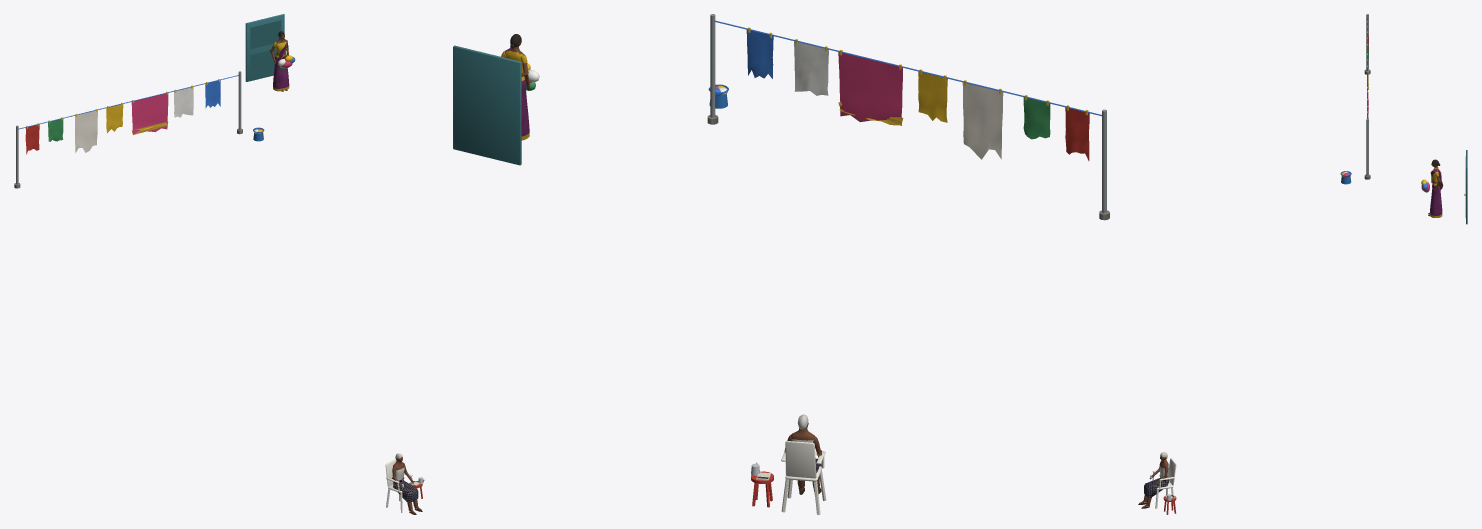
File: neighbours.glb
3 views of the same model, side by side, from view 1: azimuth 30°, elevation 25°; view 2: azimuth 150°, elevation 25°; view 3: azimuth 270°, elevation 25° (orthographic). The views are drawn at different scales.
Visible parts, largest first — view 1: roof_door__door_teal_dark_w40, wash_2, door_panel, wash_4, aunty__cloth_#7a2e6e, wash_1; view 2: door_panel, wash_2, wash_4, uncle_spot__plastic_monobloc, wash_1, wash_3, wash_0, Neighbours__gi_pipe, wash_6, wash_5, line; view 3: aunty__cloth_#7a2e6e, uncle_spot__plastic_monobloc.
Part boxes in pixels (x1,y1,x2,y2): roof_door__door_teal_dark_w40: [250, 20, 281, 76]; wash_2: [131, 93, 168, 134]; door_panel: [245, 14, 284, 81]; wash_4: [75, 110, 97, 152]; aunty__cloth_#7a2e6e: [273, 38, 289, 91]; wash_1: [174, 87, 193, 117]; door_panel: [453, 45, 521, 165]; wash_2: [838, 52, 902, 125]; wash_4: [962, 82, 1003, 159]; uncle_spot__plastic_monobloc: [781, 441, 826, 514]; wash_1: [794, 41, 828, 95]; wash_3: [918, 71, 947, 122]; wash_0: [746, 30, 773, 78]; Neighbours__gi_pipe: [710, 14, 1106, 213]; wash_6: [1065, 107, 1089, 160]; wash_5: [1023, 97, 1050, 139]; line: [714, 20, 1101, 116]; aunty__cloth_#7a2e6e: [1430, 166, 1443, 217]; uncle_spot__plastic_monobloc: [1152, 458, 1176, 508].
Size of the model in its own units: 4.18 by 4.61 by 3.85.
Materials: 46 (7 with a texture image).
